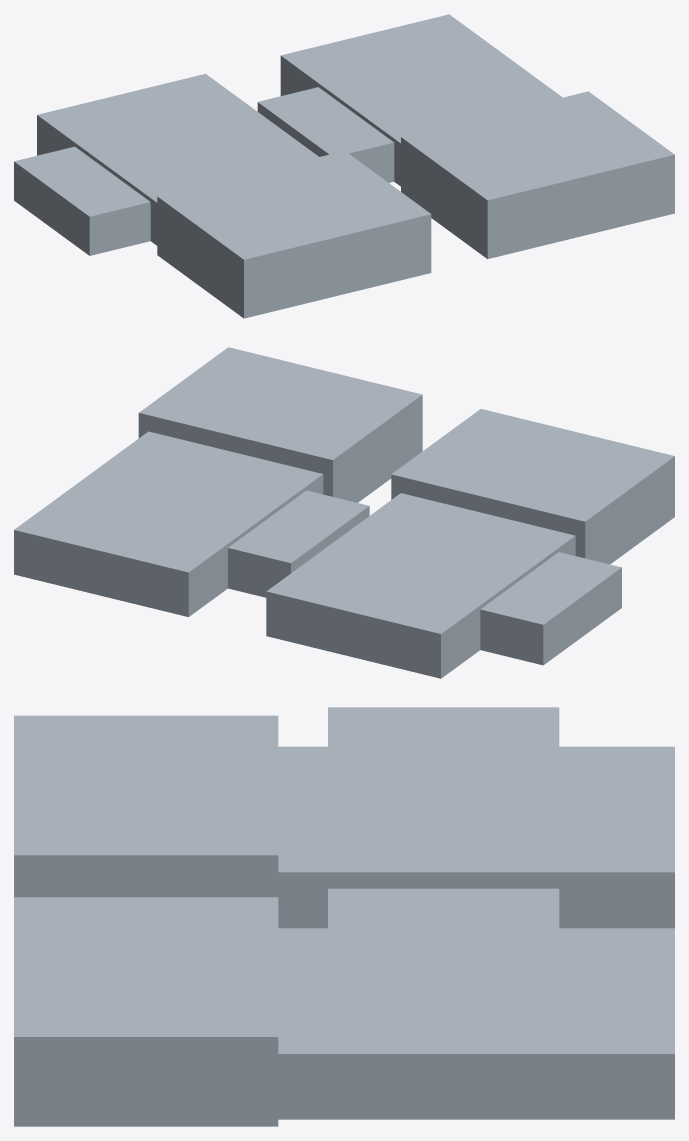
Rendered from gants_de_travail.glb.
3 views of the same model, one above another, from view 1: azimuth 30°, elevation 25°; view 2: azimuth 150°, elevation 25°; view 3: azimuth 270°, elevation 25° (orthographic). The views are drawn at different scales.
Visible parts, largest first — view 1: cuir; view 2: cuir; view 3: cuir.
Part boxes in pixels (box(x1,y1,x2,y2)): cuir: box(14, 14, 674, 318); cuir: box(14, 347, 674, 678); cuir: box(14, 707, 674, 1126).
Size of the model in its own units: 0.2575 by 0.03 by 0.2.
